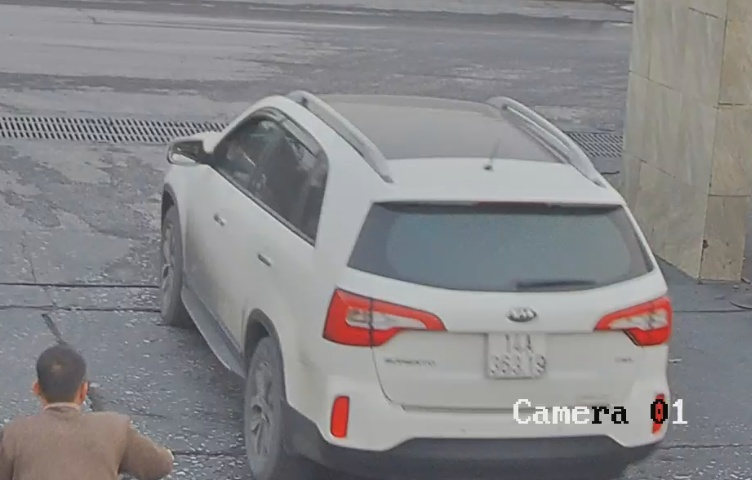vehicle plate: (485, 330, 548, 379)
